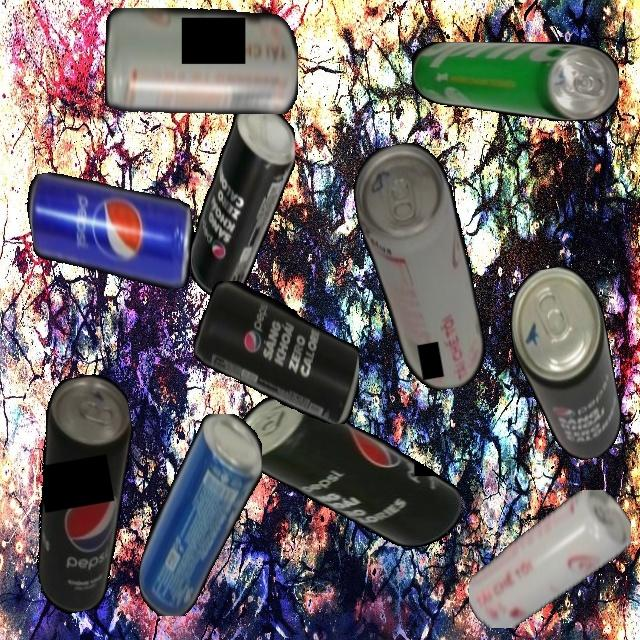debris: (6, 370, 162, 617), (347, 136, 491, 399), (233, 396, 461, 547), (22, 150, 203, 311), (501, 261, 628, 468), (138, 413, 262, 616), (193, 280, 359, 424), (468, 489, 631, 628), (190, 93, 295, 295), (104, 7, 298, 114), (411, 42, 619, 121)
